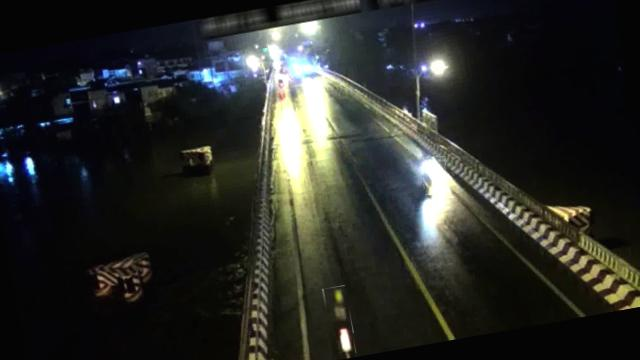Bike: (322, 284, 357, 356), (420, 154, 450, 197), (279, 77, 286, 87)
